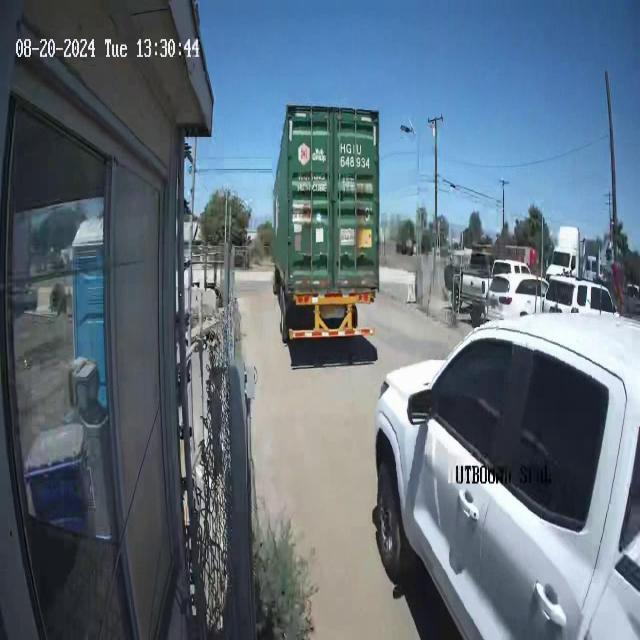TRUCK_OUT: (271, 101, 381, 368)
